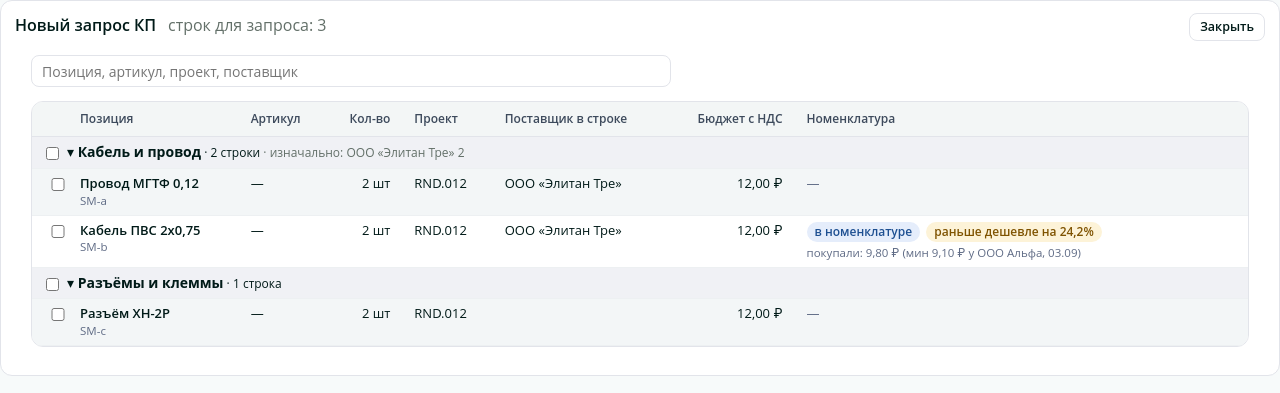
Test: shows the nomenclature chip, the price history and «раньше дешевле»
Expected: the text "в номенклатуре" is shown, [806,222,920,242]
Expected: the text "раньше дешевле на 24,2%" is shown, [926,222,1102,242]
Type "пвс" into the search field named "Поиск по строкам" at (351, 71), box [31,55,671,87]
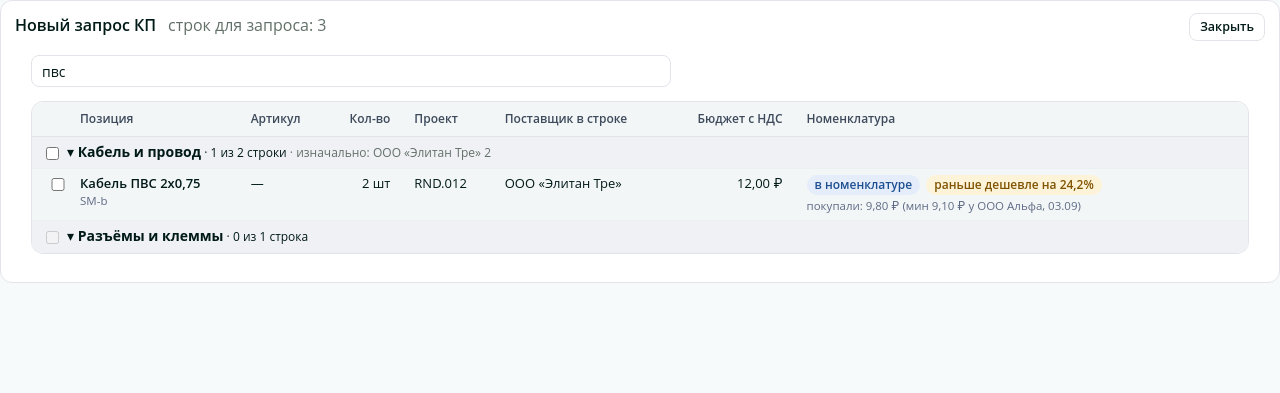
Expected: the text "Кабель ПВС 2х0,75" is shown, [80,174,200,192]
Expected: the text "Провод МГТФ 0,12" is gone
